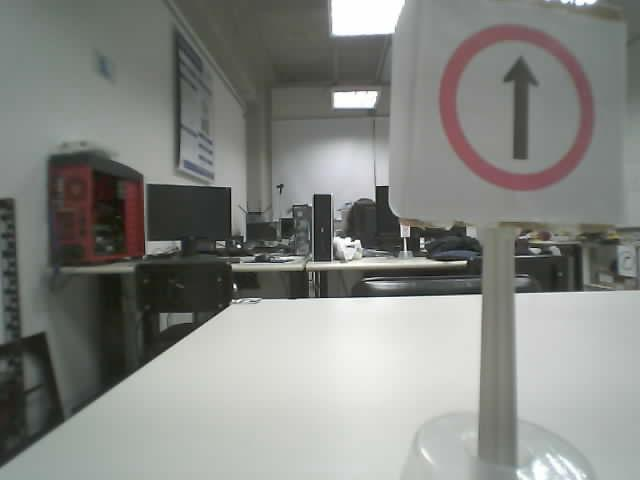R-26_frente: (437, 25, 592, 189)
